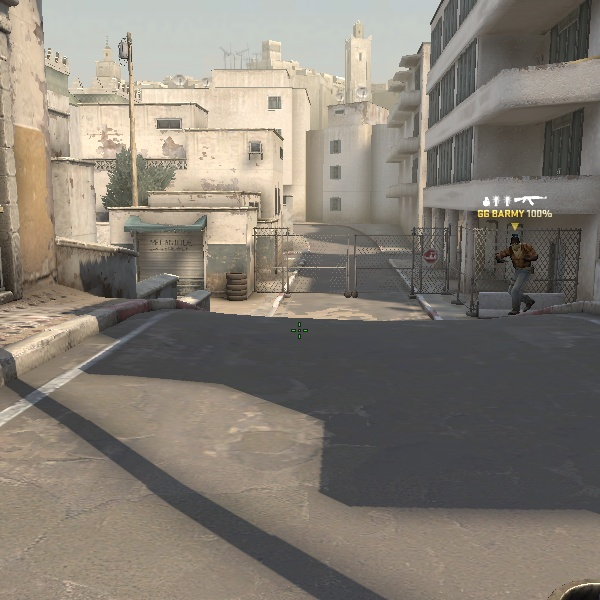t_body: (491, 230, 542, 316)
